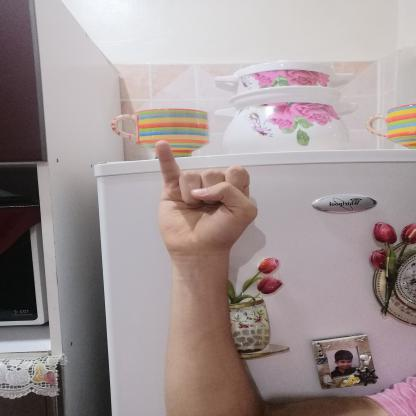MEEM: (134, 128, 274, 262)
